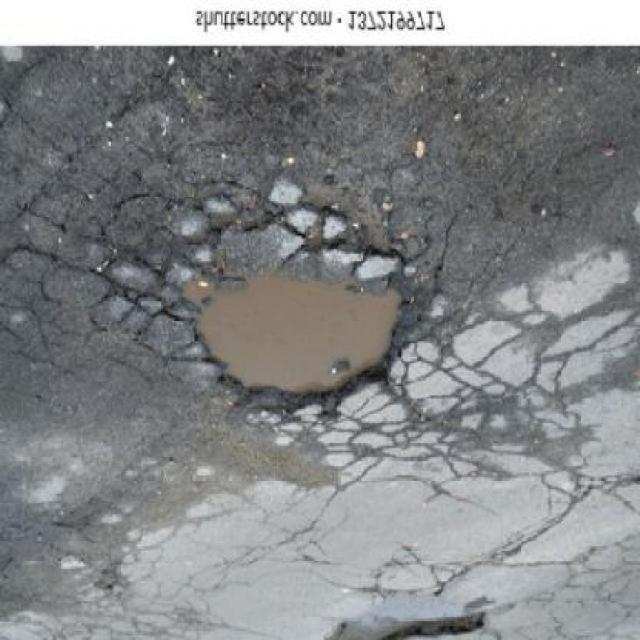Pothole: (171, 254, 427, 420)
